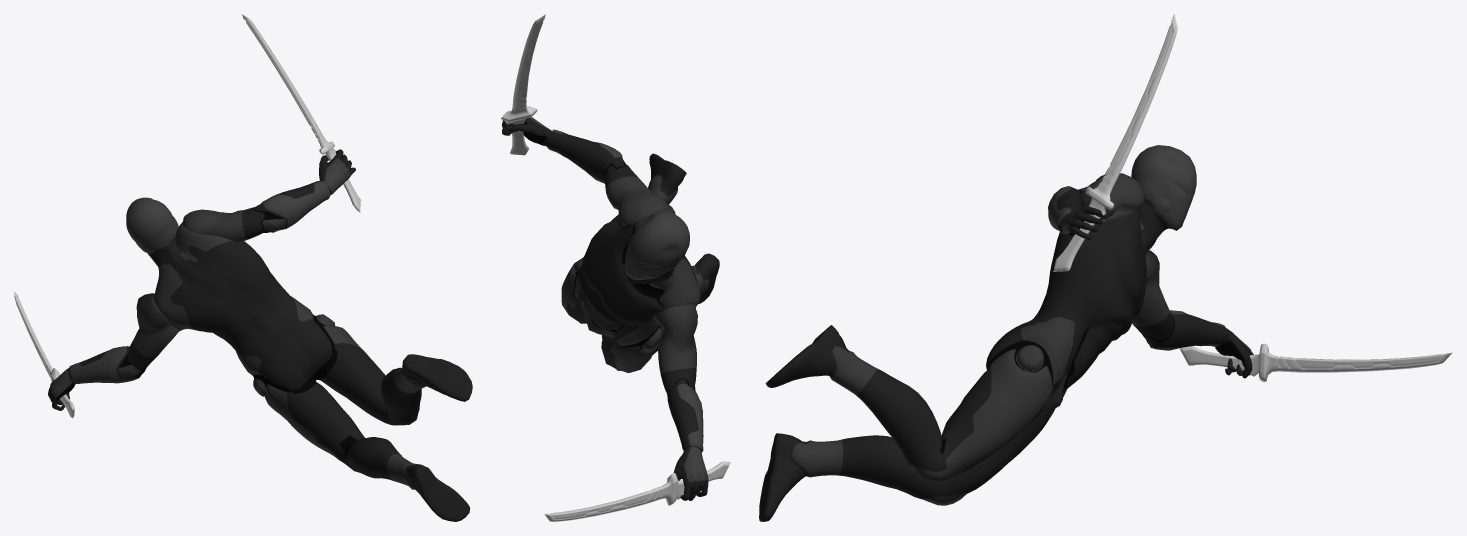
The picture shows the model from 3 angles, left to right: view 1: azimuth 30°, elevation 25°; view 2: azimuth 150°, elevation 25°; view 3: azimuth 270°, elevation 25°; orthographic projection. The views are drawn at different scales.
Parts seen in each view (by area): view 1: Cyborg_Ninja_Killer, Sword_l001, Sword_l; view 2: Cyborg_Ninja_Killer, Sword_l, Sword_l001; view 3: Cyborg_Ninja_Killer, Sword_l, Sword_l001.
Part boxes in pixels (box(x1,y1,x2,y2)): Cyborg_Ninja_Killer: box(48, 149, 472, 521); Sword_l001: box(242, 14, 360, 212); Sword_l: box(14, 291, 74, 418); Cyborg_Ninja_Killer: box(502, 117, 719, 500); Sword_l: box(544, 461, 730, 521); Sword_l001: box(501, 14, 545, 155); Cyborg_Ninja_Killer: box(759, 145, 1253, 521); Sword_l: box(1180, 343, 1452, 382); Sword_l001: box(1053, 14, 1177, 271).
Bounding box in the file's own units: 107 × 165 × 217.
